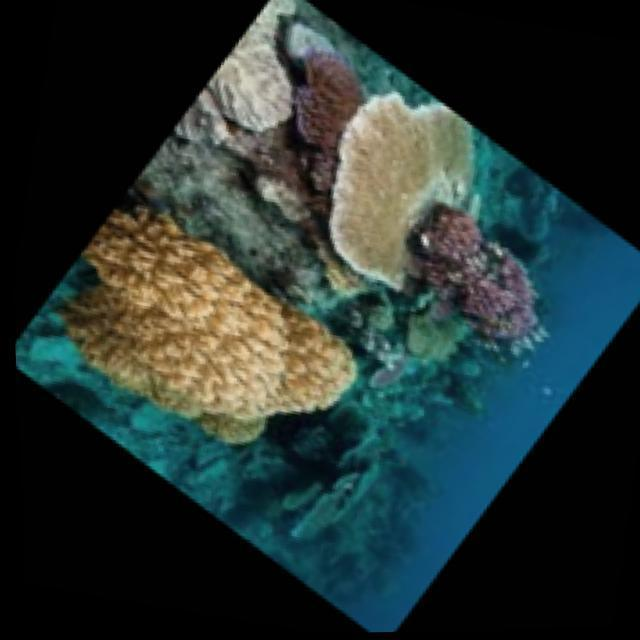Dead Coral: (258, 429, 437, 602)
